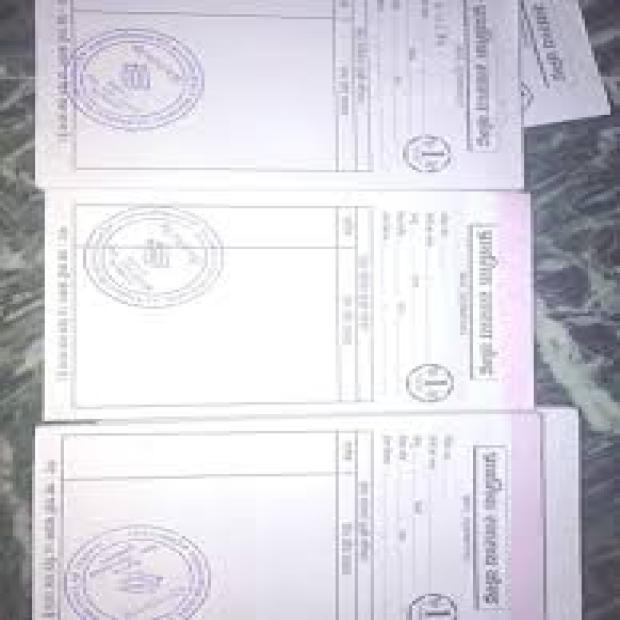Ink-stamps: (75, 203, 232, 312), (64, 518, 231, 620), (59, 31, 211, 136)
